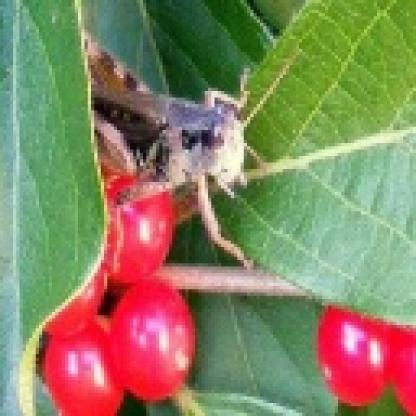grasshopper: (72, 34, 263, 266)
